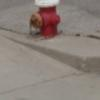a fire hydrant: (29, 0, 61, 39)
